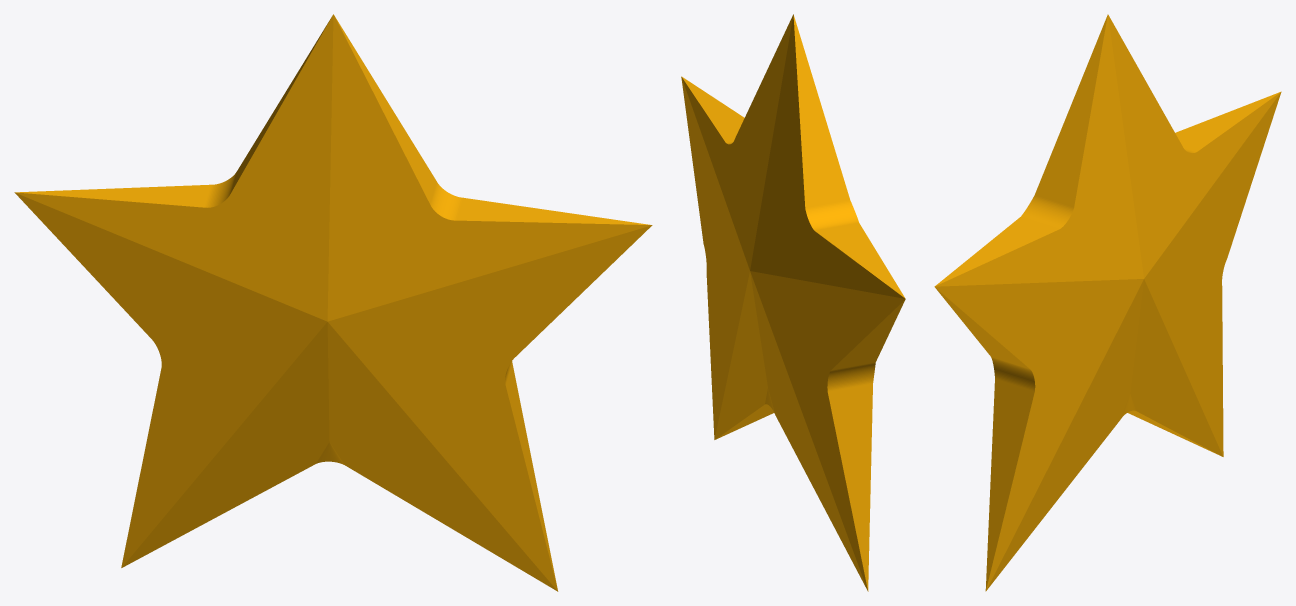
Rendered from star-0223ca6b.glb.
3 views of the same model, side by side, from view 1: azimuth 30°, elevation 25°; view 2: azimuth 150°, elevation 25°; view 3: azimuth 270°, elevation 25° (orthographic). The views are drawn at different scales.
Parts seen in each view (by area): view 1: star; view 2: star; view 3: star.
Part boxes in pixels (bbox=[...]): star: bbox=[14, 14, 652, 591]; star: bbox=[681, 14, 905, 591]; star: bbox=[934, 14, 1281, 591].
Bounding box in the file's own units: 0.9655 × 1.17 × 0.7257.
